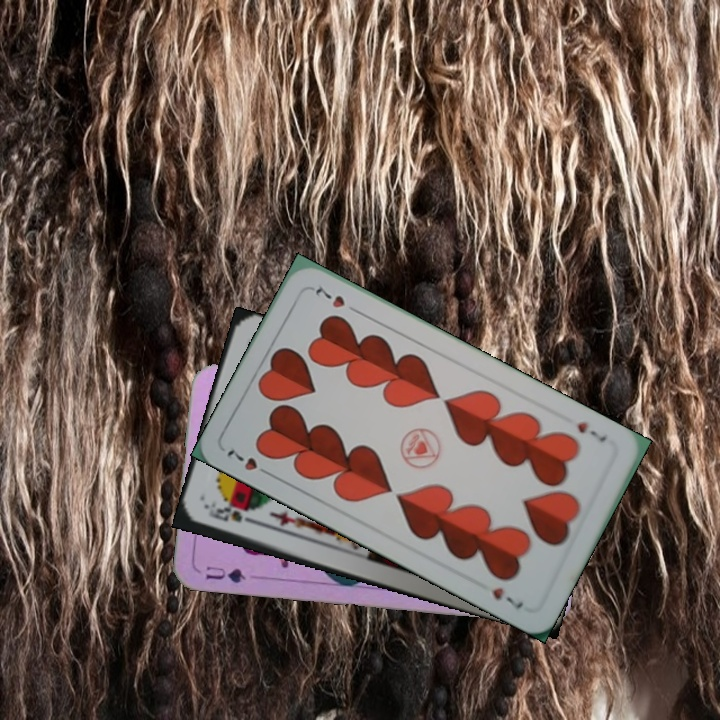GU: (202, 562, 248, 586)
H7: (222, 445, 276, 480), (573, 417, 609, 445)
SK: (203, 501, 261, 528)
